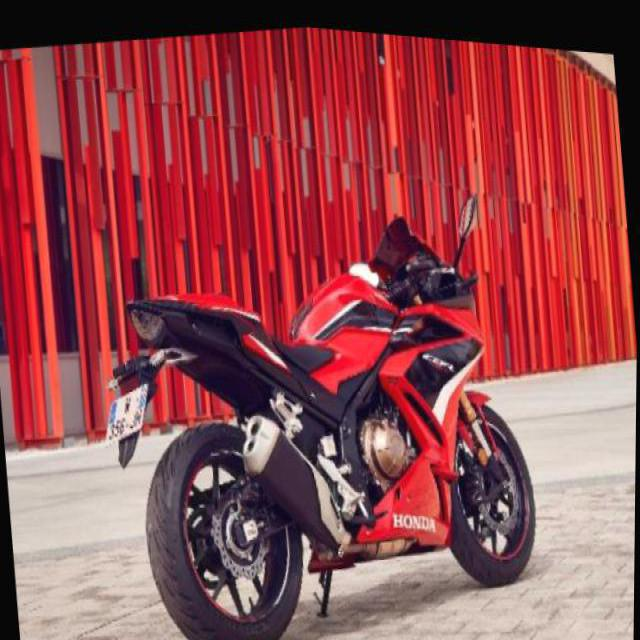CBR500R: (86, 152, 555, 639)
